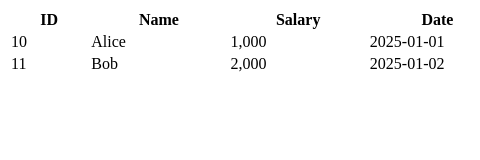
DataGrid editing › starts on double-click, sends a single controlled event with raw values, and restores focus
Later steps or results of the test are not shown.
Double-click the cell "1,000" at (248, 42), box [230,32,367,52]
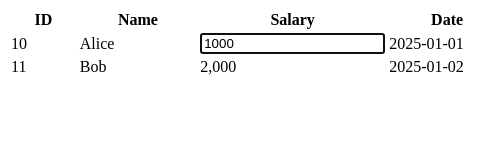
Now the field named "Edit Salary" holds "1000", box [200,33,385,54]
